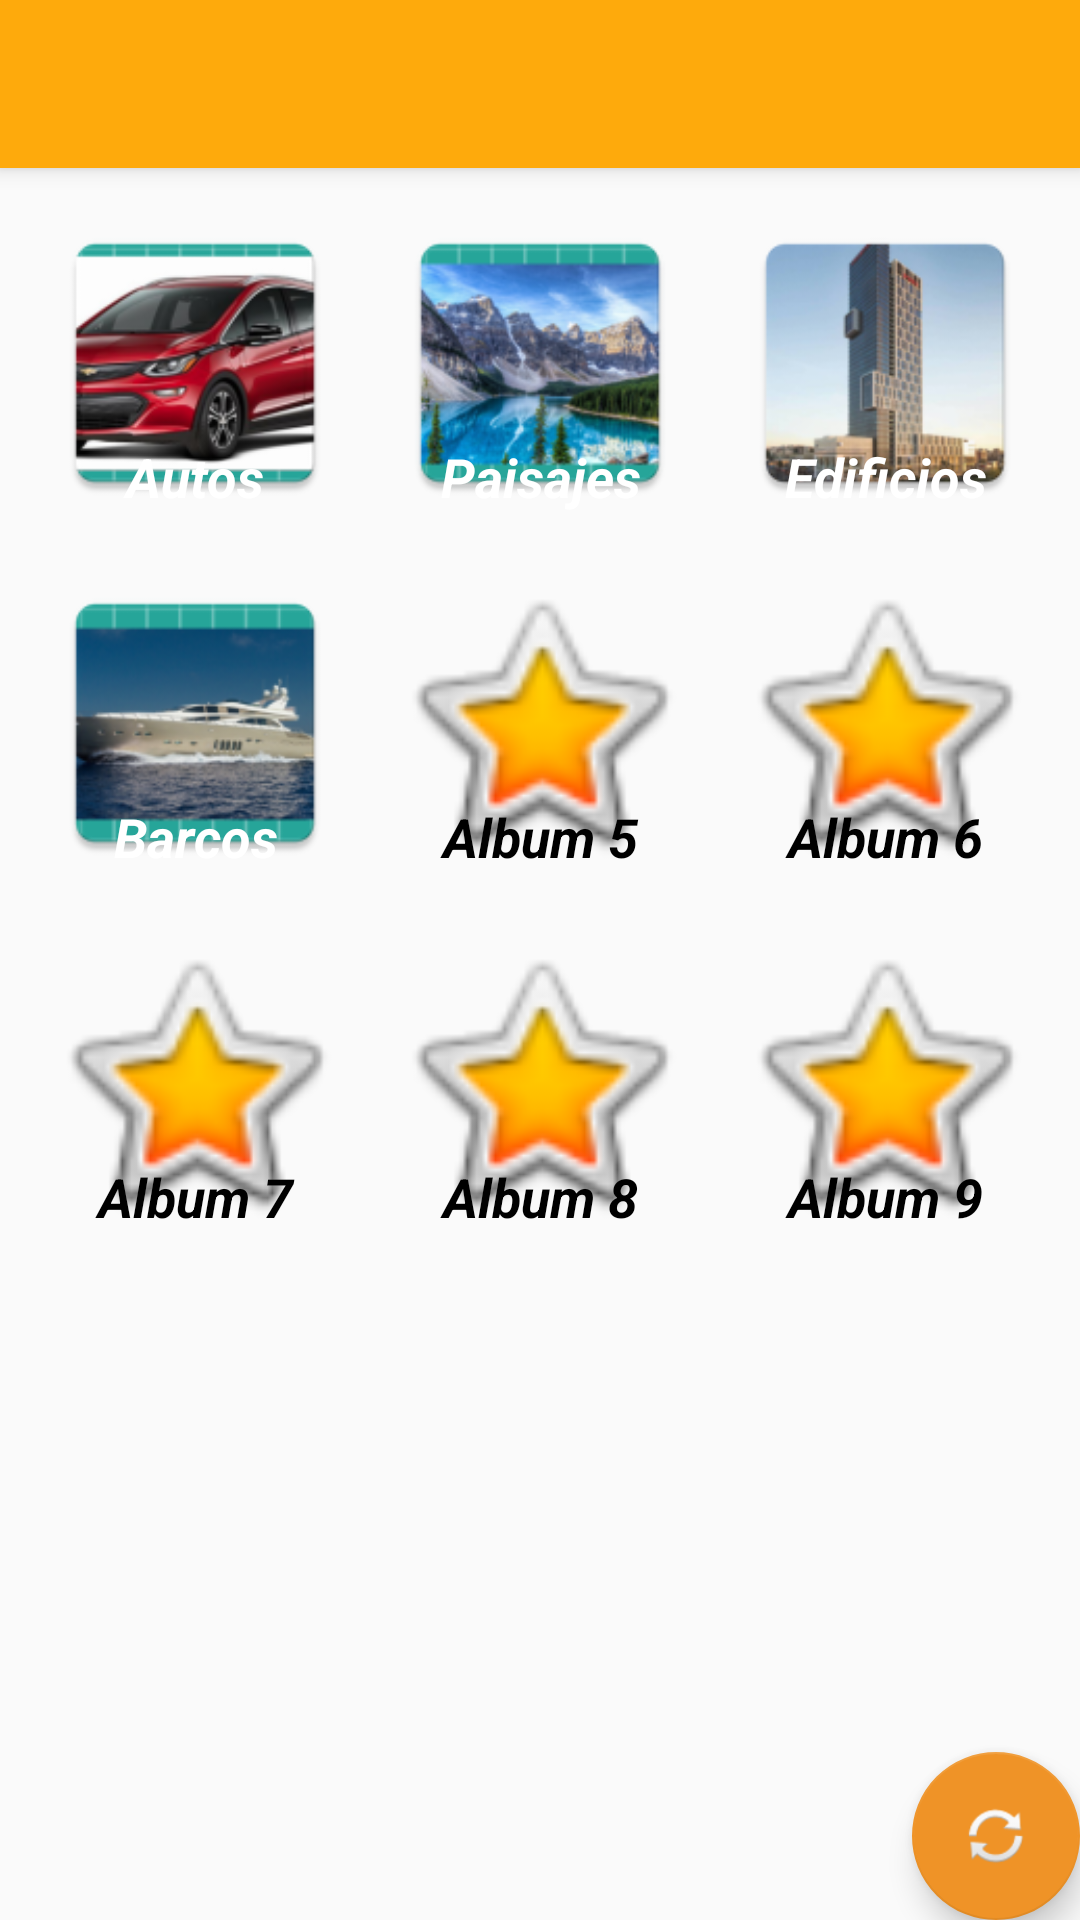

Icon bounding boxes for this 1080px×1920px phone screenshot, format (x1, y1, x2, y2):
popup sync: (912, 1752, 1080, 1920)
